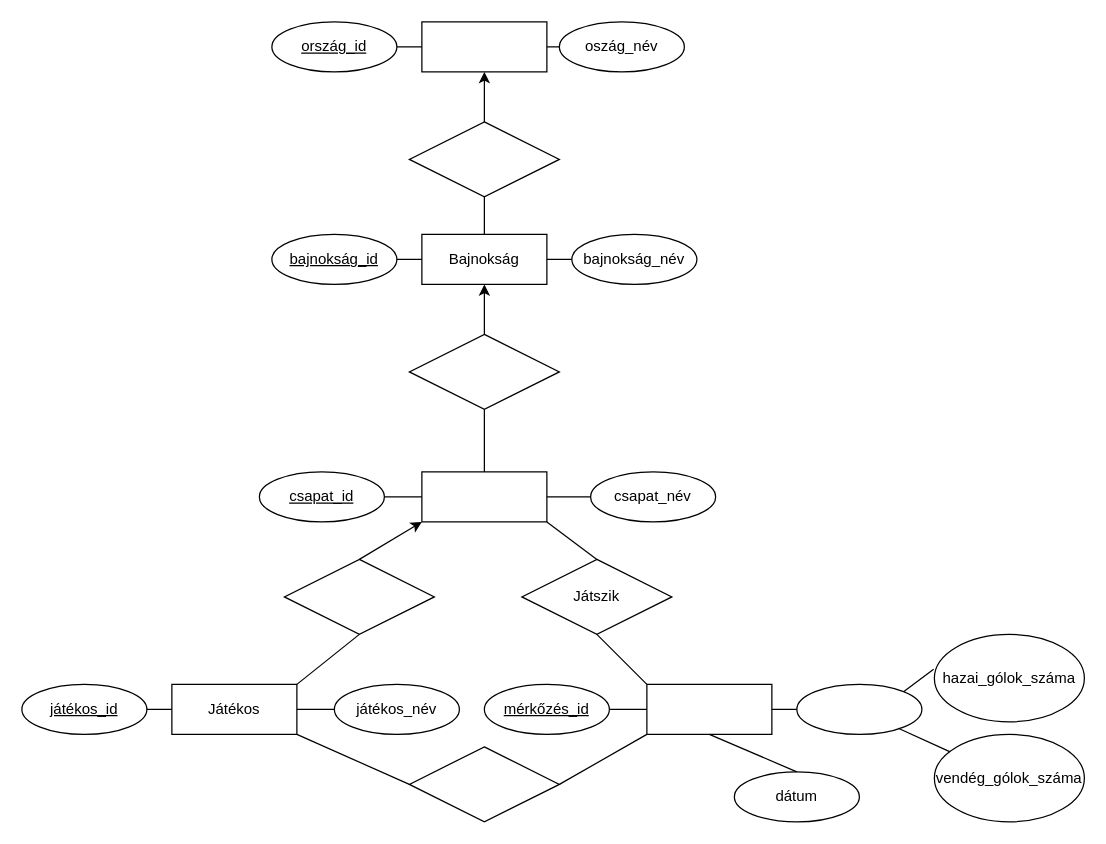
Some shapes in this 1106 by 844 pixel diagram are drawn without their labels. The shapes that lost their labels are listed below. From the top down, each one's centre as x and y in pixels, then its label:
At point (484, 46): "Ország".
At point (483, 159): "Rendező".
At point (483, 371): "Játszik benne".
At point (484, 496): "Csapat".
At point (358, 596): "Tagja".
At point (709, 708): "Mérkőzés".
At point (859, 708): "eredmény".
At point (483, 784): "Gólt lő".
